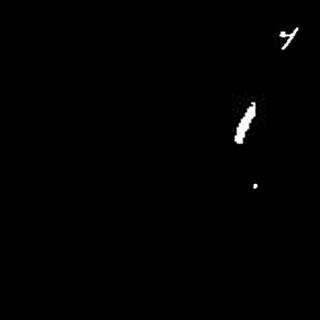dot: (248, 180, 262, 190)
one: (239, 98, 256, 142)
seven: (275, 26, 298, 52)
